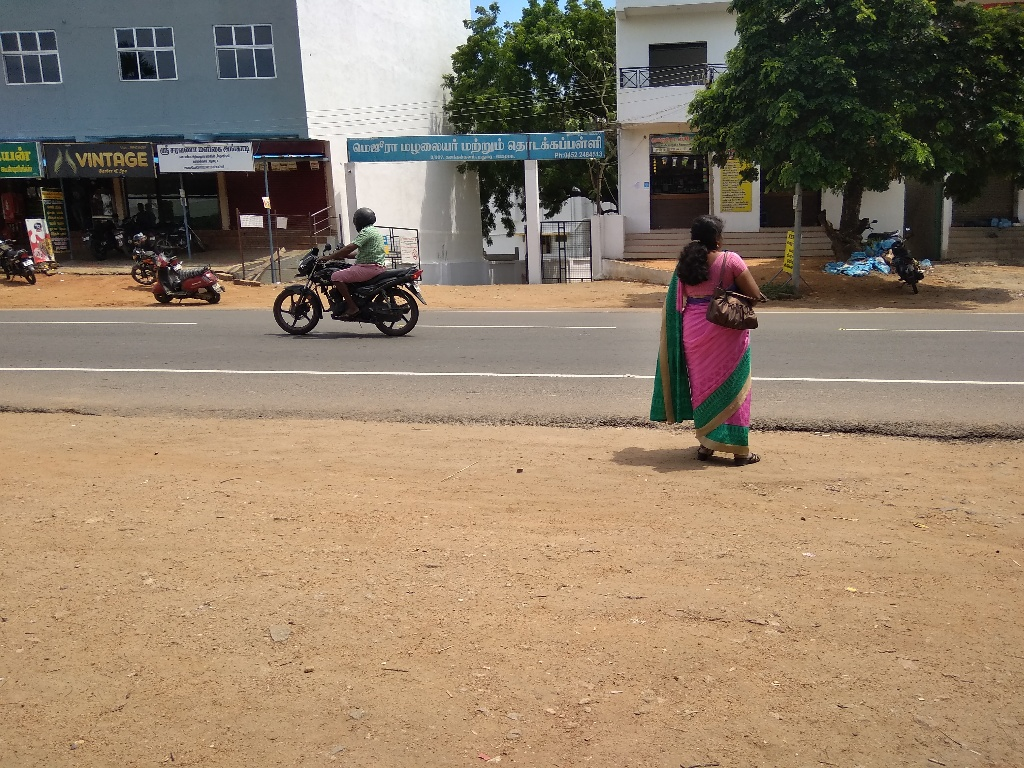biker: (266, 170, 449, 343)
helmet: (342, 191, 387, 244)
